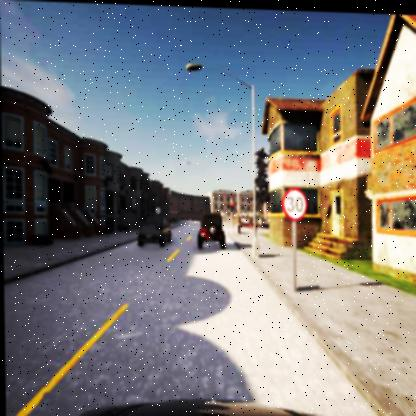vehicle: (136, 217, 171, 247), (197, 209, 224, 245)
